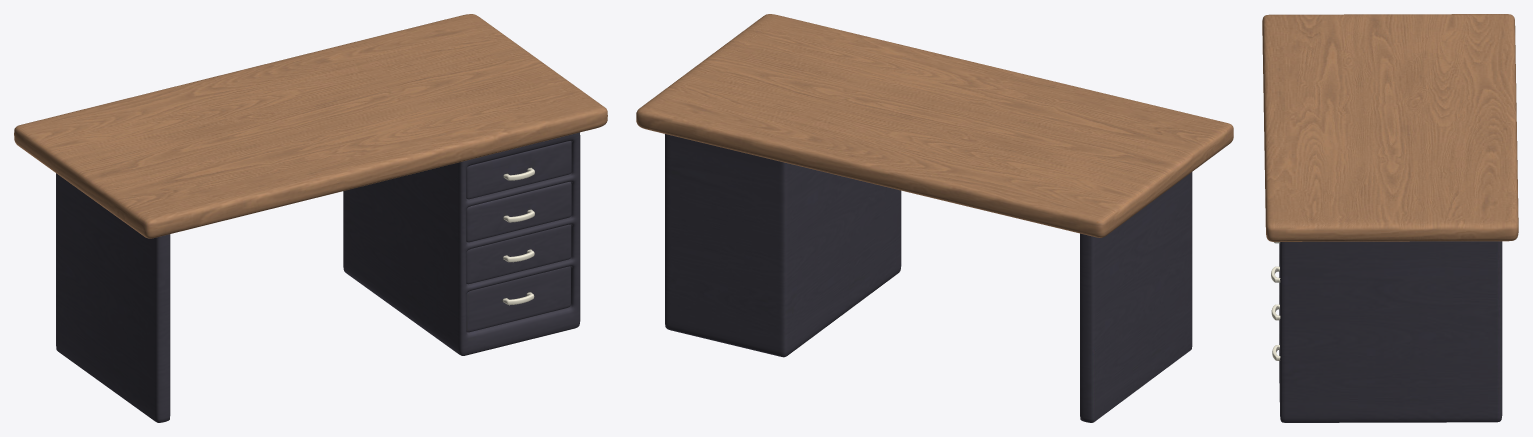
The model's file is desk.obj.
The picture shows the model from 3 angles, left to right: view 1: azimuth 30°, elevation 25°; view 2: azimuth 150°, elevation 25°; view 3: azimuth 270°, elevation 25°; orthographic projection. The views are drawn at different scales.
Parts seen in each view (by area): view 1: Desk_Body, Desk_Drawer_04, Desk_Drawer_02, Desk_Drawer_03, Desk_Drawer_01; view 2: Desk_Body; view 3: Desk_Body.
Boxes of the visible parts, x1,y1,x2,y2 form: Desk_Body: [14, 14, 607, 422]; Desk_Drawer_04: [466, 266, 570, 332]; Desk_Drawer_02: [466, 181, 571, 242]; Desk_Drawer_03: [466, 224, 571, 284]; Desk_Drawer_01: [466, 141, 571, 199]; Desk_Body: [636, 14, 1233, 422]; Desk_Body: [1262, 14, 1518, 422].
Size of the model in its own units: 1.18 by 0.5359 by 0.5987.
1 material, 1 textured.
